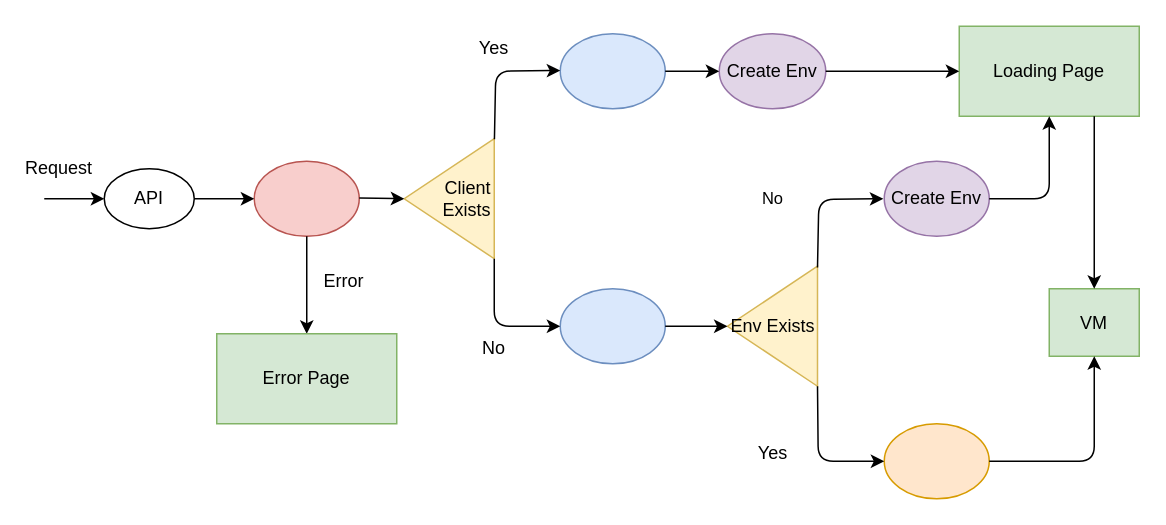
Some shapes in this 1166 by 525 pixel diagram are drawn without their labels. Here are the shapes that lost their labels. From the top down, the centre of each, then its label:
point 612,70: Create Client
point 306,198: Checks
point 612,325: Get Client
point 936,460: Get Env
